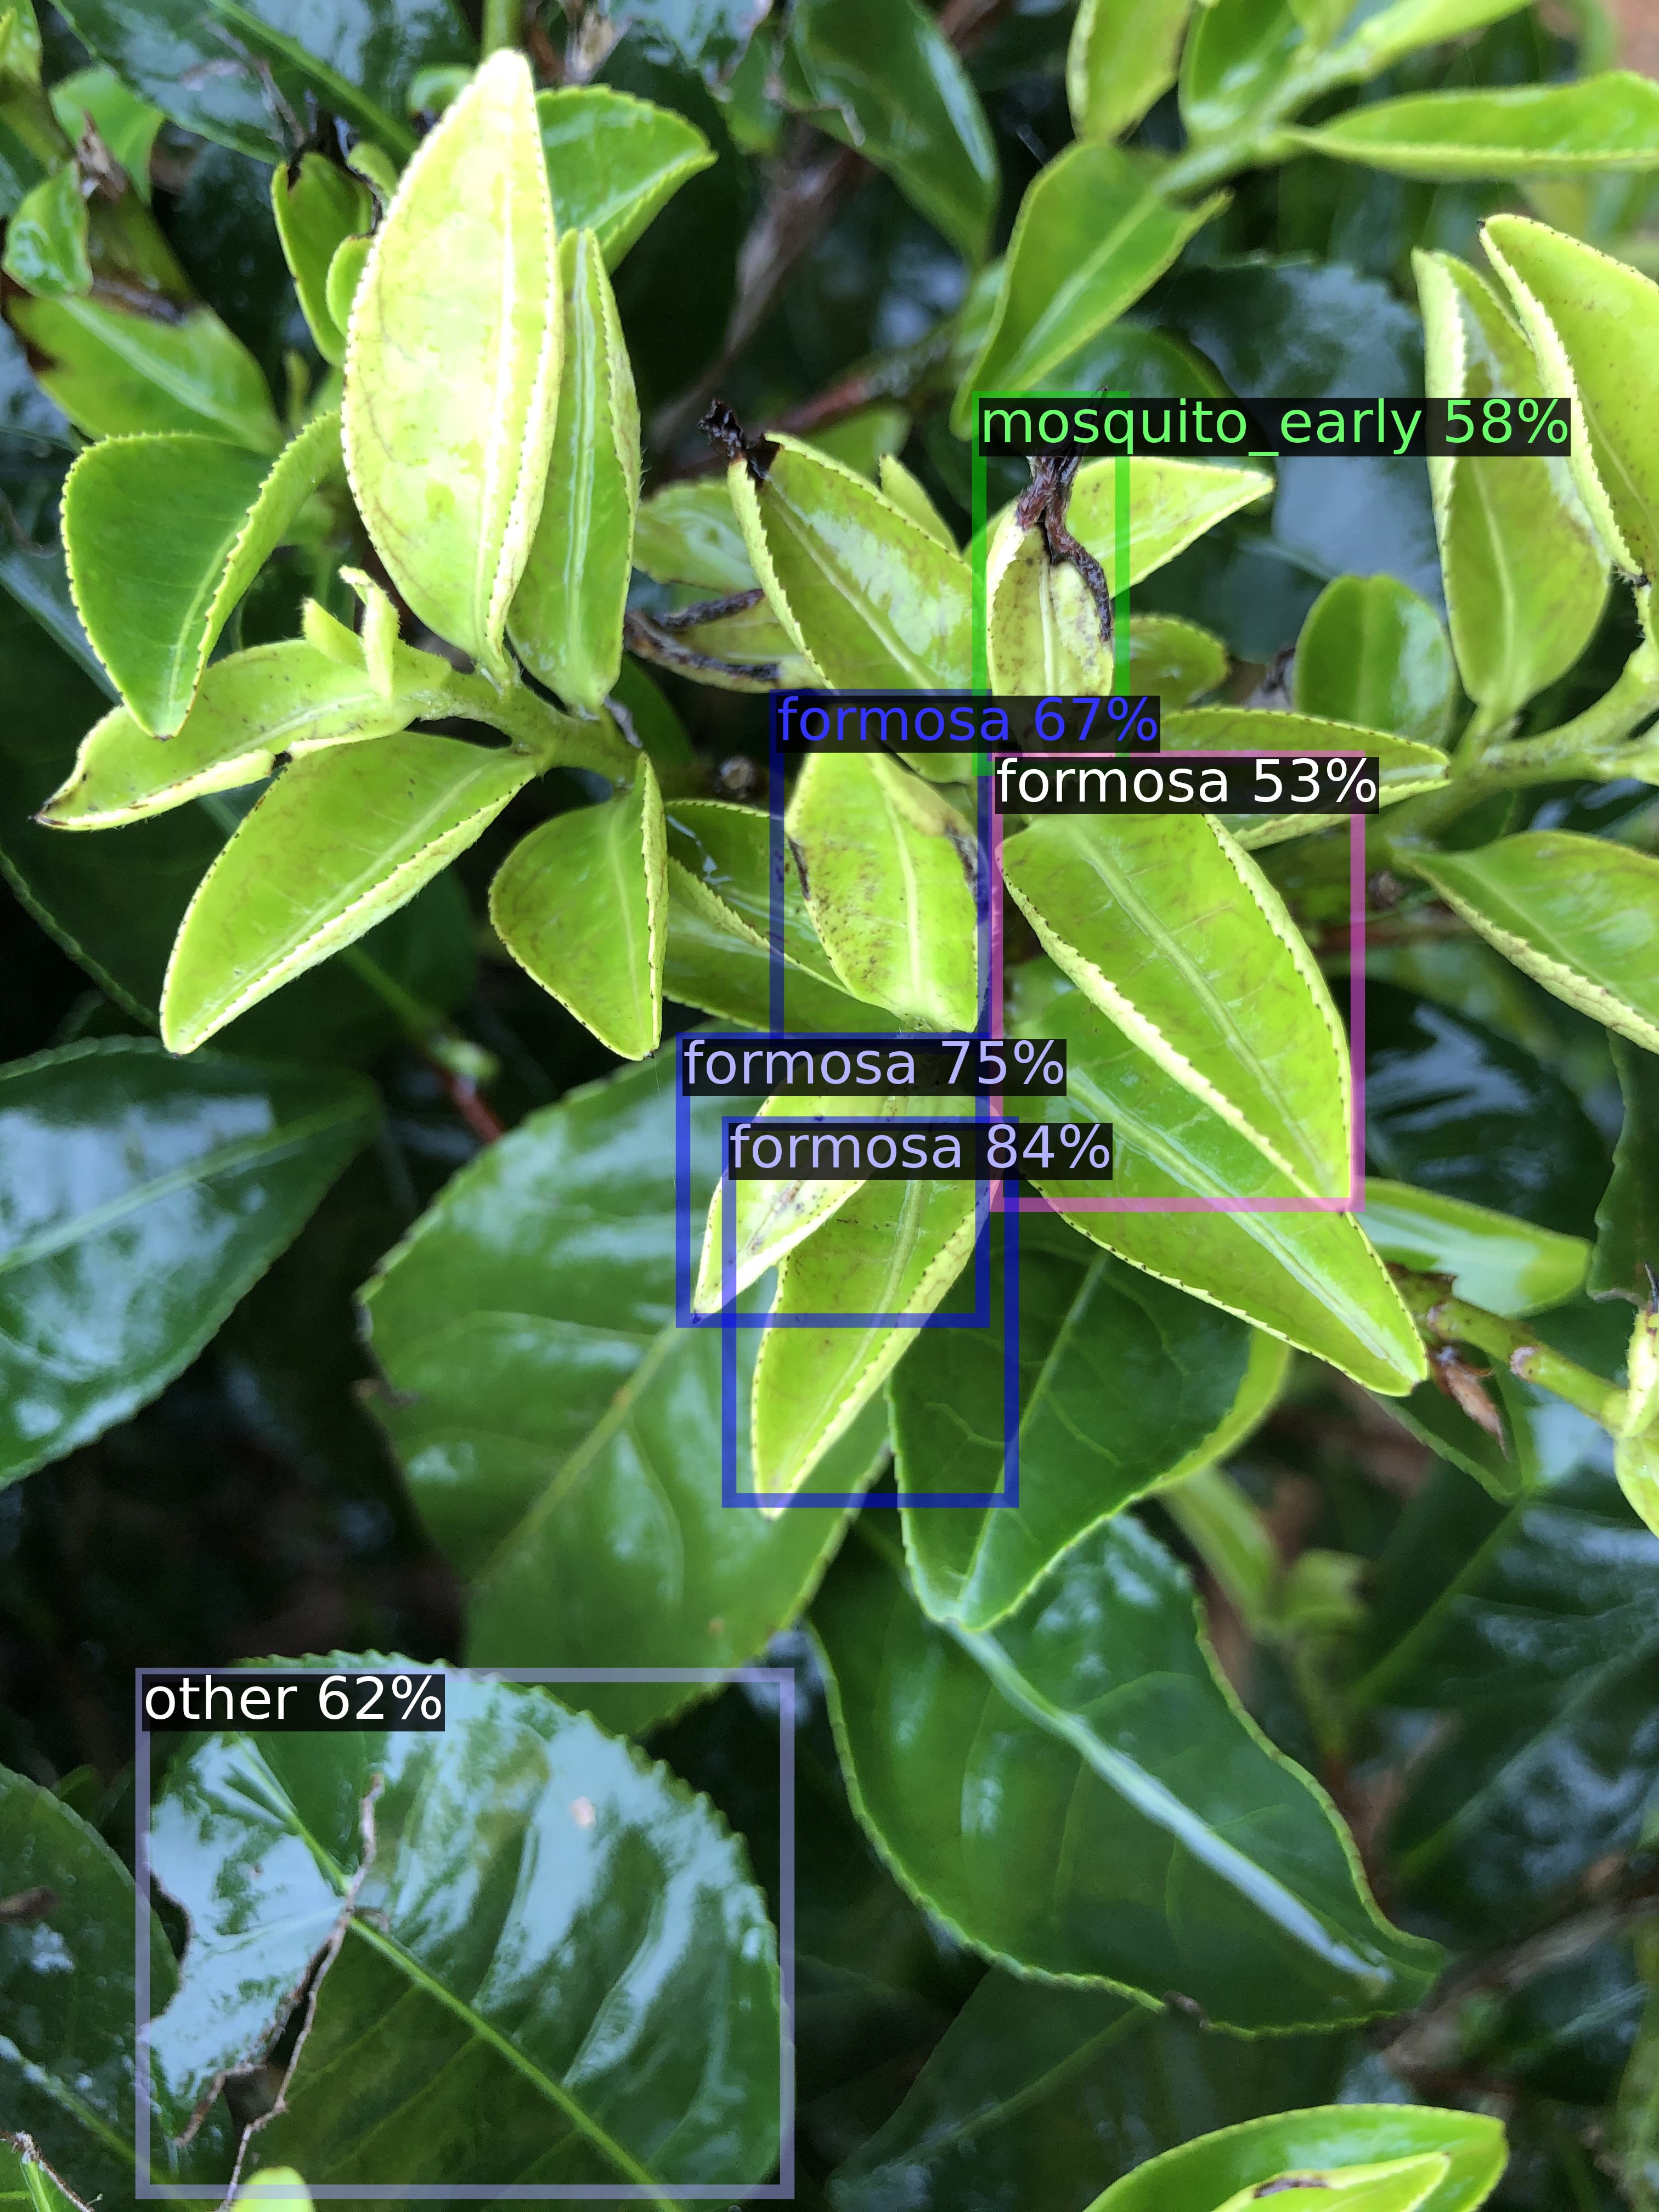formosa: (995, 758, 1358, 1205), (728, 1123, 1011, 1500), (683, 1040, 983, 1320), (775, 695, 985, 1047)
mosquito_early: (979, 397, 1122, 768)
other: (143, 1676, 786, 2191)
